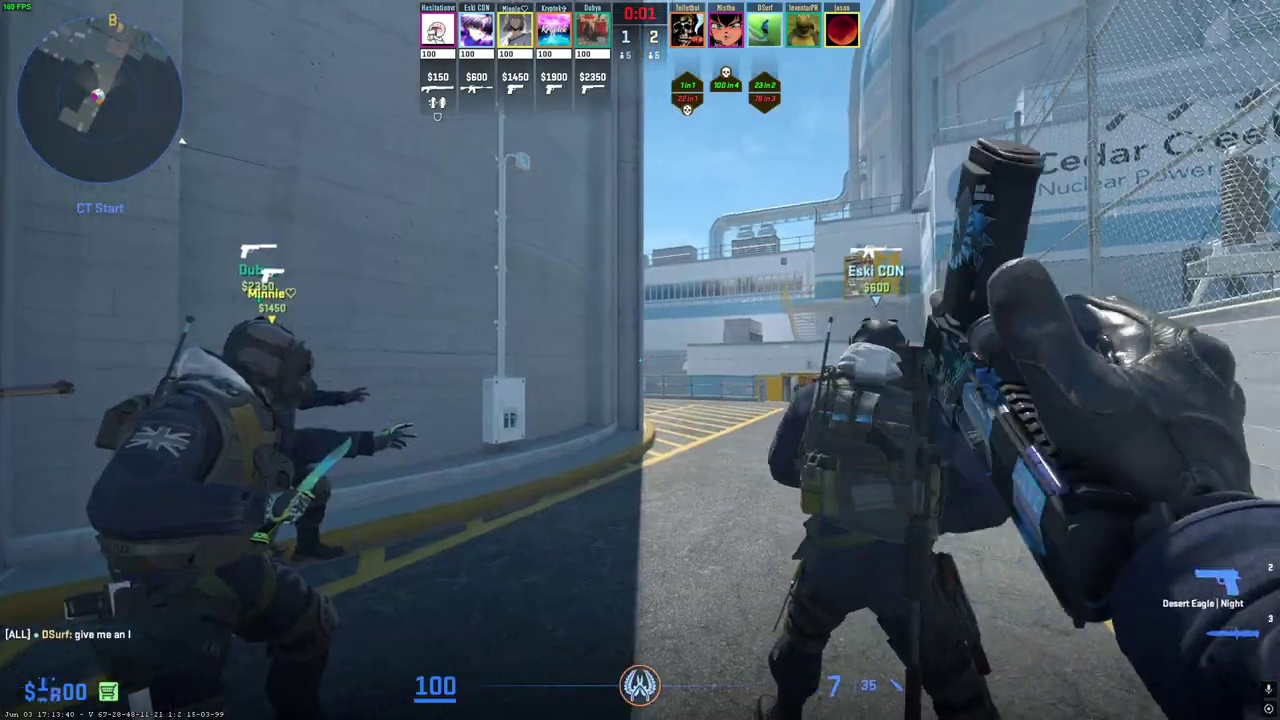CT: (95, 320, 344, 720), (770, 317, 997, 720)
